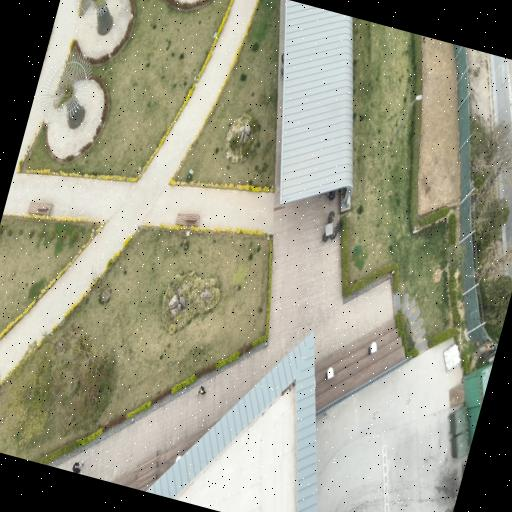person: (72, 462, 83, 473), (198, 386, 206, 394)
